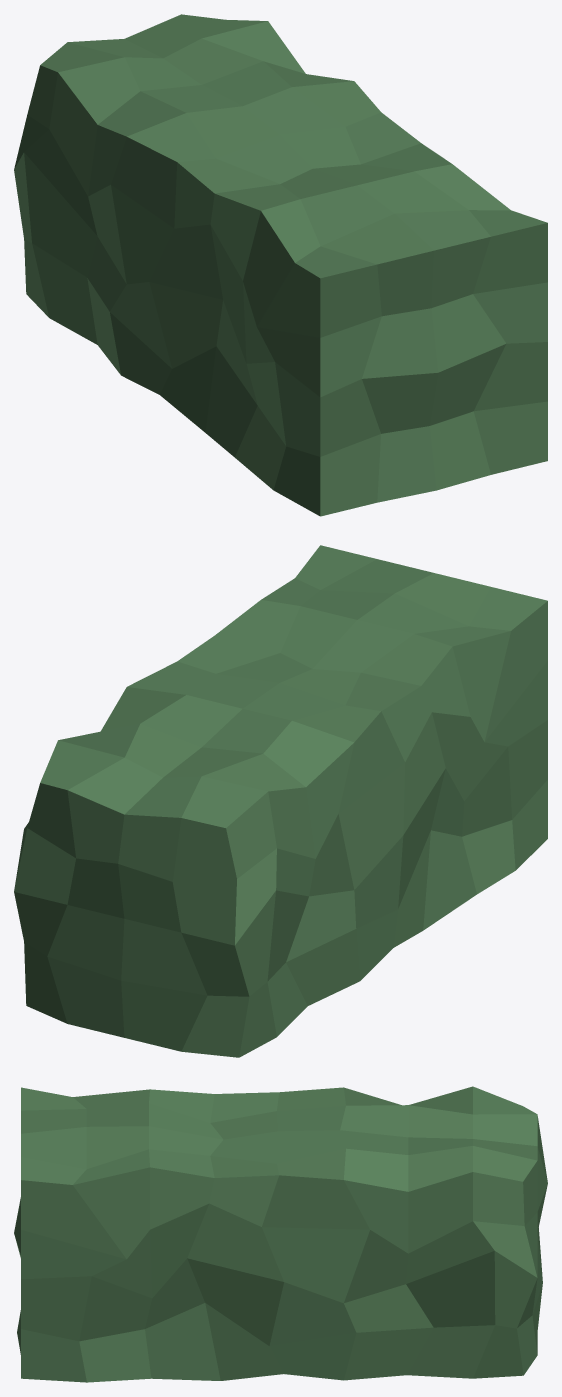
The model's file is bush_one_end.fbx.
The picture shows the model from 3 angles, top to bottom: view 1: azimuth 30°, elevation 25°; view 2: azimuth 150°, elevation 25°; view 3: azimuth 270°, elevation 25°; orthographic projection. The views are drawn at different scales.
Visible parts, largest first — view 1: Cube; view 2: Cube; view 3: Cube.
Part boxes in pixels (x1=…): Cube: x1=14, y1=14, x2=547, y2=516; Cube: x1=14, y1=545, x2=547, y2=1057; Cube: x1=14, y1=1086, x2=547, y2=1382.
Size of the model in its own units: 223 by 212 by 487.
